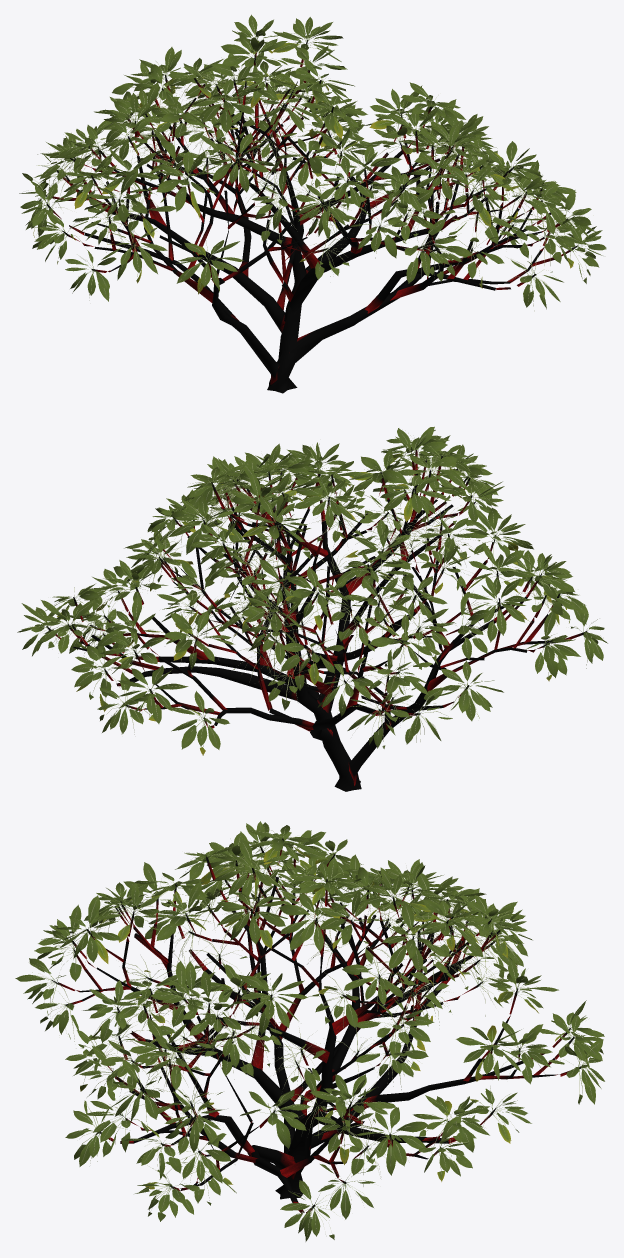
Rendered from frangipani.glb.
3 renders of one model, top to bottom at view 1: azimuth 30°, elevation 25°; view 2: azimuth 150°, elevation 25°; view 3: azimuth 270°, elevation 25°, orthographic. The views are drawn at different scales.
Parts seen in each view (by area): view 1: Plumeria_rubra_pink_HD; view 2: Plumeria_rubra_pink_HD; view 3: Plumeria_rubra_pink_HD.
Part boxes in pixels (x1,y1,x2,y2): Plumeria_rubra_pink_HD: [19, 14, 606, 393]; Plumeria_rubra_pink_HD: [17, 426, 607, 791]; Plumeria_rubra_pink_HD: [15, 821, 604, 1241].
Size of the model in its own units: 6.71 by 4.01 by 6.4.
6 materials, 6 textured.
